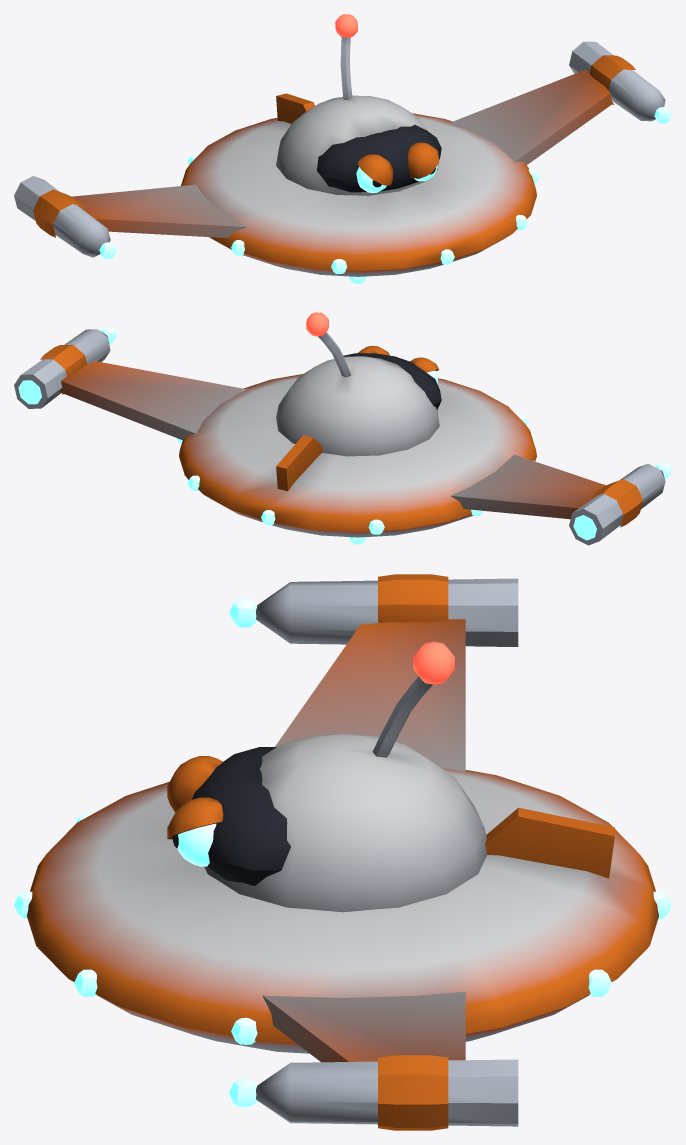
The model's file is flyer_space.glb.
3 views of the same model, one above another, from view 1: azimuth 30°, elevation 25°; view 2: azimuth 150°, elevation 25°; view 3: azimuth 270°, elevation 25° (orthographic). The views are drawn at different scales.
Visible parts, largest first — view 1: body, wing_L, wing_R; view 2: body, wing_L, wing_R; view 3: body, wing_R, wing_L.
Boxes of the visible parts, <box> form: body: <box>181,14,539,283</box>; wing_L: <box>451,41,671,164</box>; wing_R: <box>14,176,247,258</box>; body: <box>177,312,536,544</box>; wing_L: <box>14,327,247,440</box>; wing_R: <box>450,454,671,545</box>; body: <box>14,641,671,1053</box>; wing_R: <box>229,574,518,771</box>; wing_L: <box>229,991,518,1130</box>.
Size of the model in its own units: 1.38 by 0.467 by 0.75.
